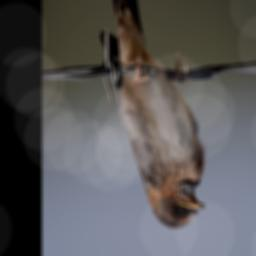Swallow: (98, 0, 207, 233)
